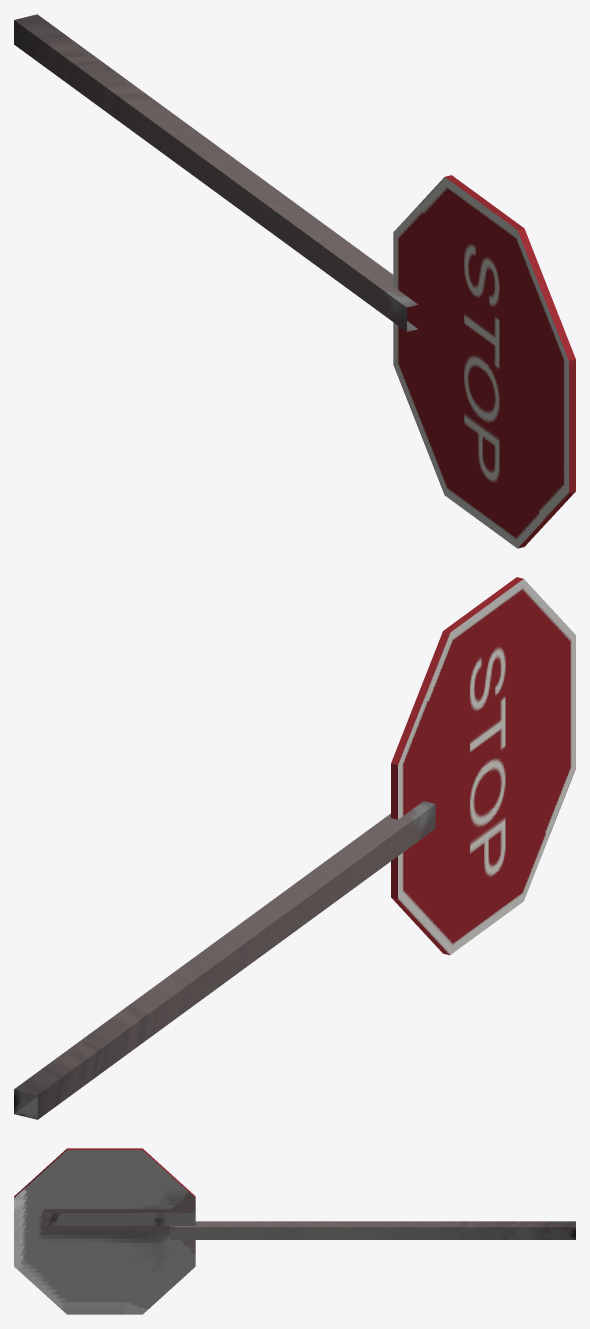
The model's file is pz_native_street_decoration_01_3.obj.
3 renders of one model, top to bottom at view 1: azimuth 30°, elevation 25°; view 2: azimuth 150°, elevation 25°; view 3: azimuth 270°, elevation 25°, orthographic. The views are drawn at different scales.
Parts seen in each view (by area): view 1: pz_native_street_decoration_01_3; view 2: pz_native_street_decoration_01_3; view 3: pz_native_street_decoration_01_3.
Boxes of the visible parts, x1,y1,x2,y2 form: pz_native_street_decoration_01_3: [14, 14, 575, 548]; pz_native_street_decoration_01_3: [14, 577, 575, 1119]; pz_native_street_decoration_01_3: [14, 1148, 575, 1314].
Size of the model in its own units: 0.0469 by 0.6094 by 1.88.
Materials: 1 (1 with a texture image).
